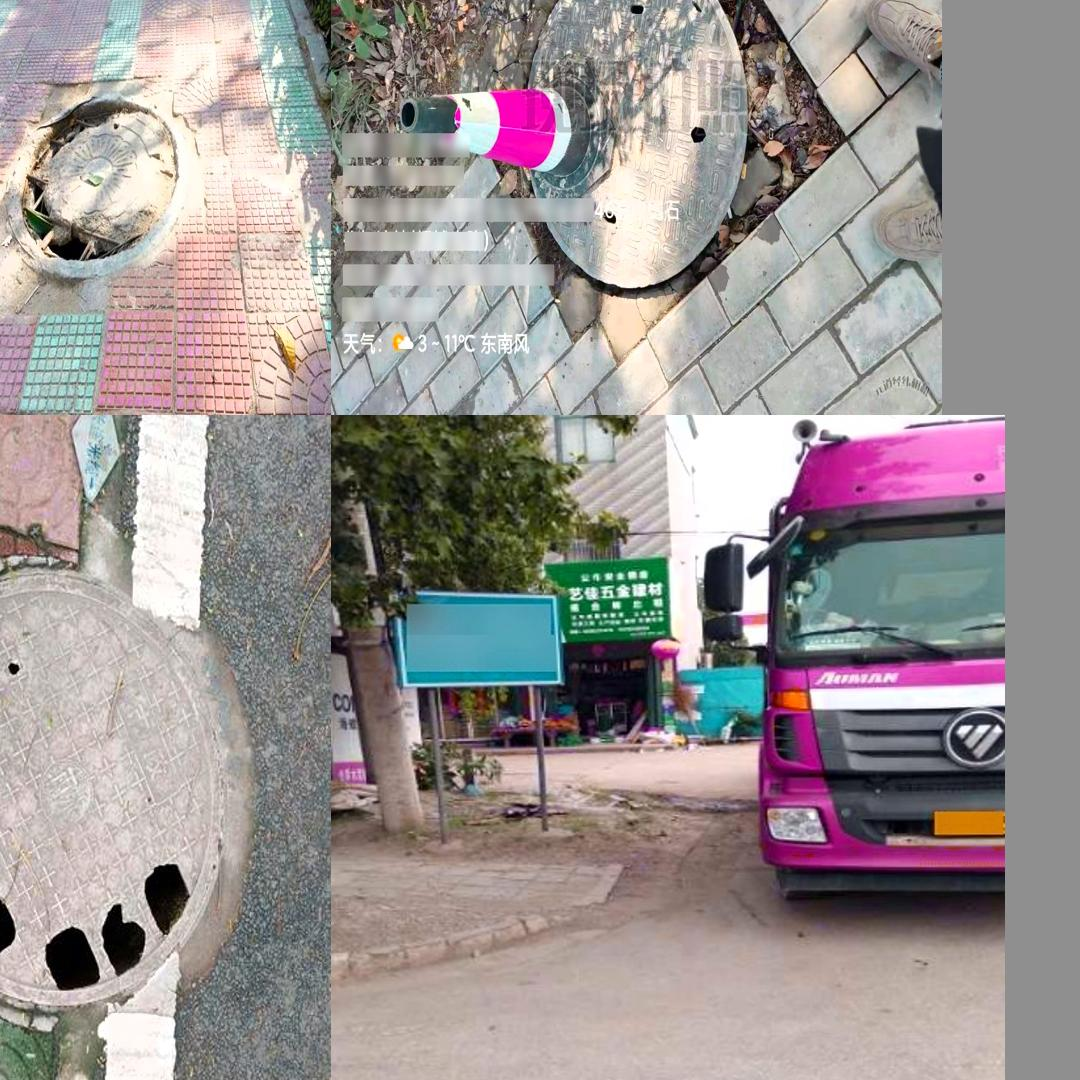broke: (0, 546, 261, 1035), (519, 0, 749, 289), (6, 86, 194, 277)
